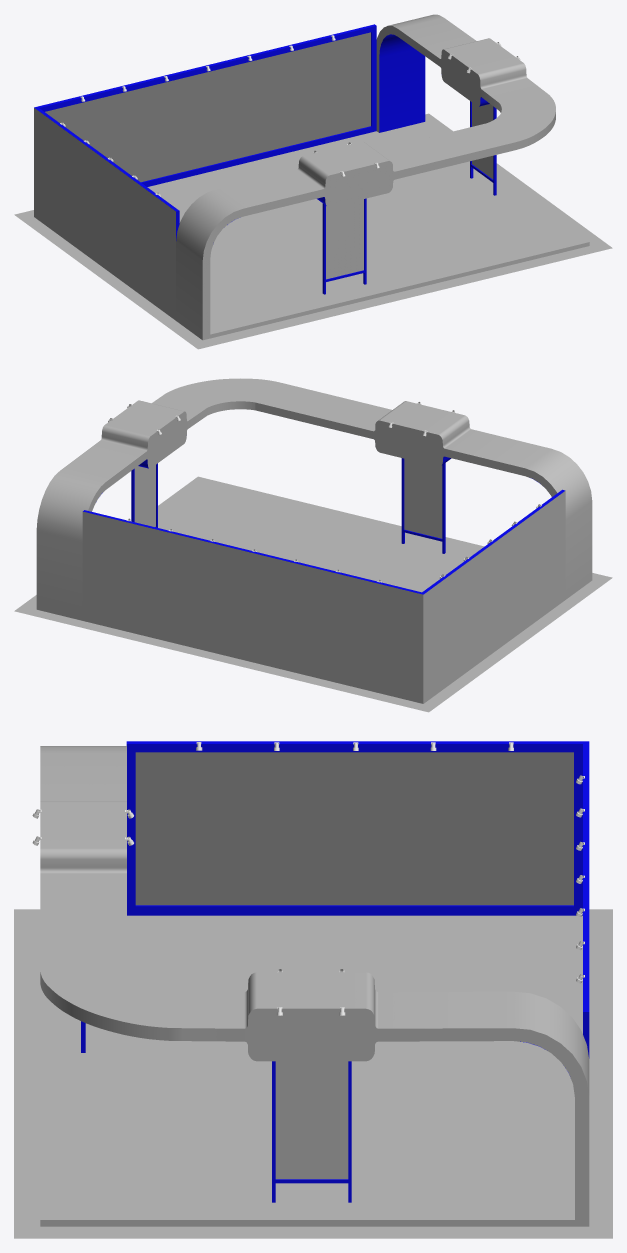
File: type3-cornerDraco.1d6cb66c.glb
The picture shows the model from 3 angles, top to bottom: view 1: azimuth 30°, elevation 25°; view 2: azimuth 150°, elevation 25°; view 3: azimuth 270°, elevation 25°; orthographic projection. The views are drawn at different scales.
Visible parts, largest first — view 1: Stall.001, Base_AO; view 2: Stall.001, Base_AO; view 3: Stall.001, Base_AO, Hanging__Lights.
Boxes of the visible parts, x1,y1,x2,y2 form: Stall.001: (34, 14, 589, 340); Base_AO: (14, 113, 612, 349); Stall.001: (36, 378, 592, 703); Base_AO: (14, 476, 612, 712); Stall.001: (40, 741, 589, 1226); Base_AO: (14, 909, 612, 1238); Hanging__Lights: (32, 742, 584, 1015).
Bounding box in the file's own units: 16.35 × 5.1 × 12.57.
